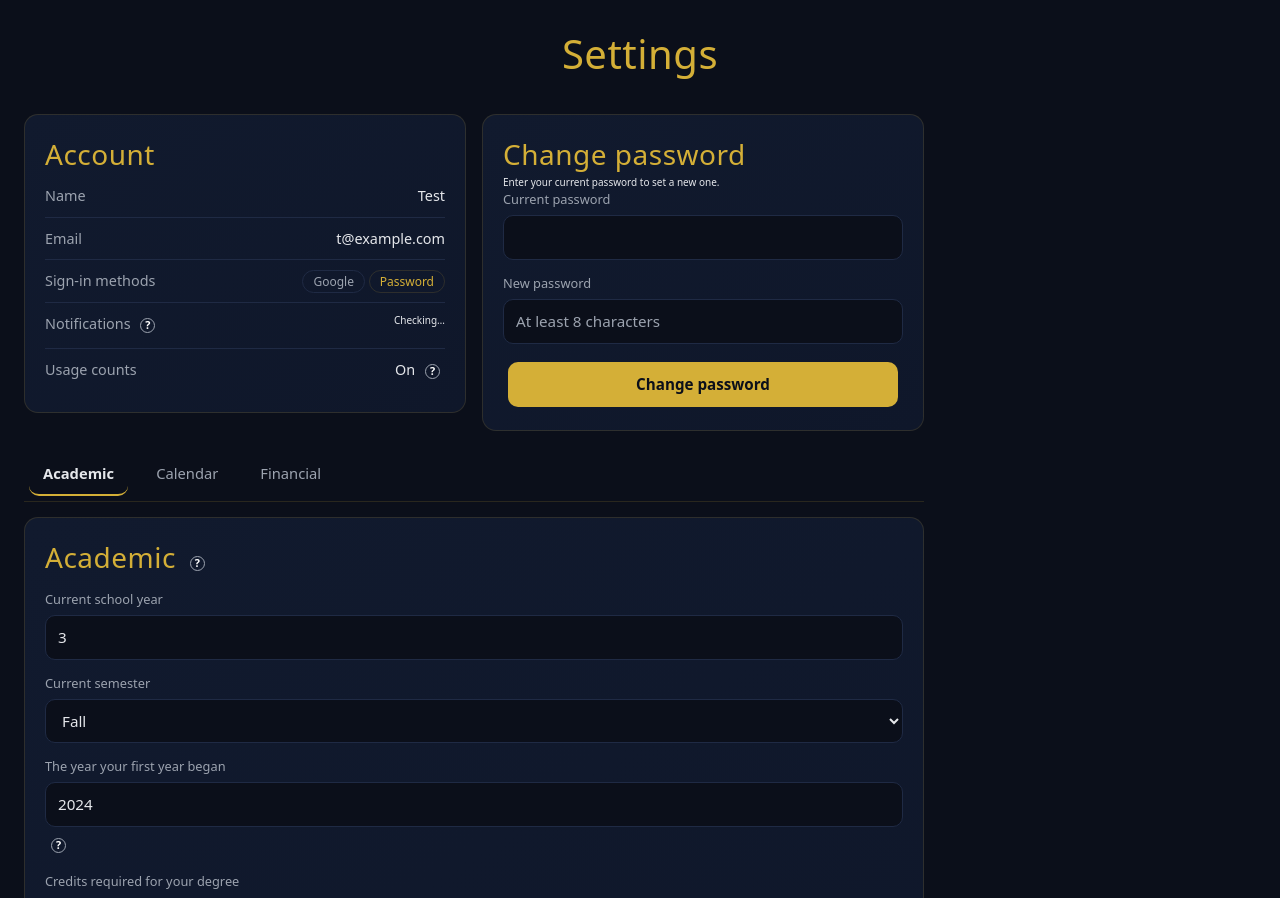
Test: where cash tips go › sends null for Not chosen
The image size is (1280, 898).
Step 1. Click the tab "Financial" → [291, 474], box [246, 452, 335, 496]
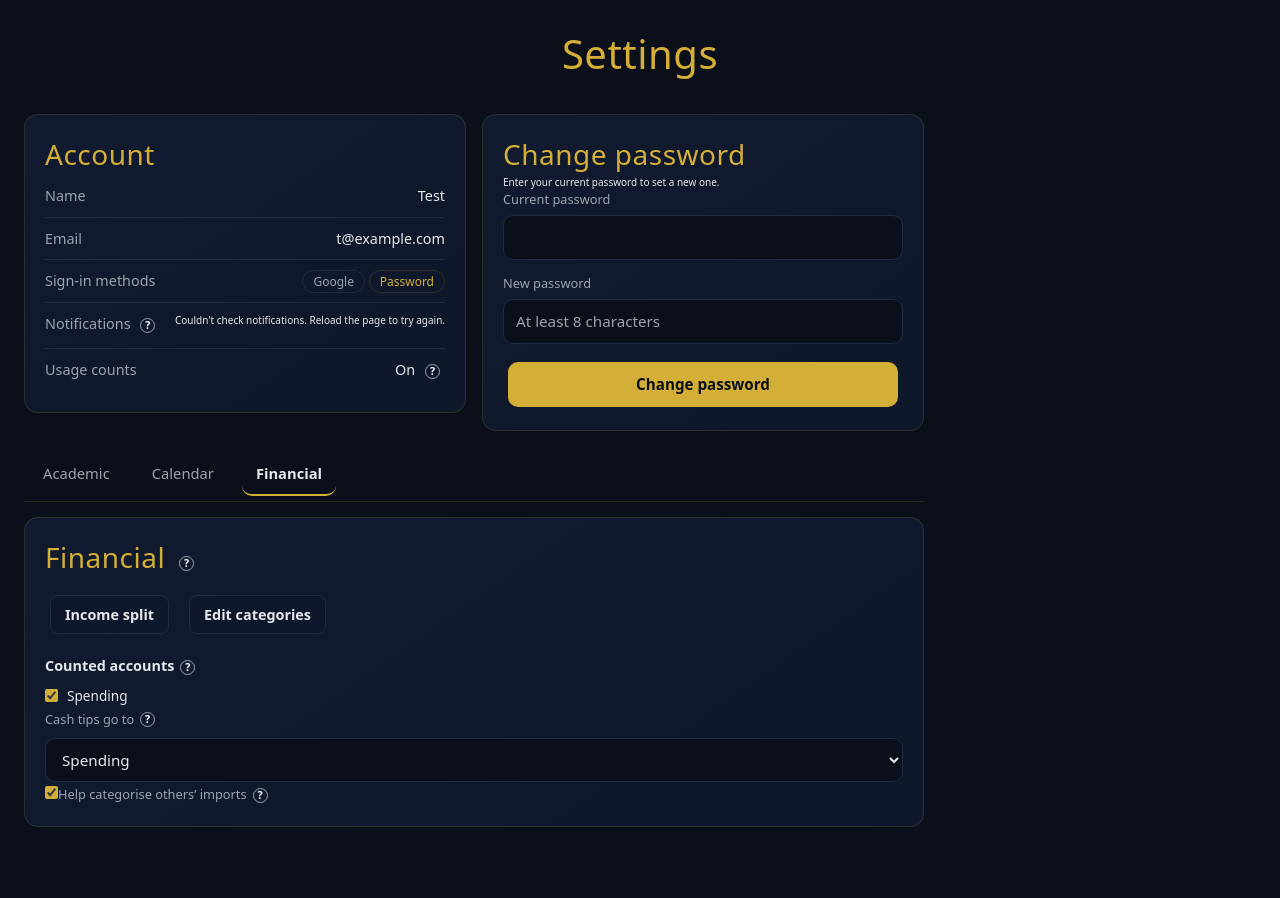
Step 2. Select "Not chosen" in the dropdown labelled "Cash tips go to" → [474, 760], box [45, 738, 903, 782]
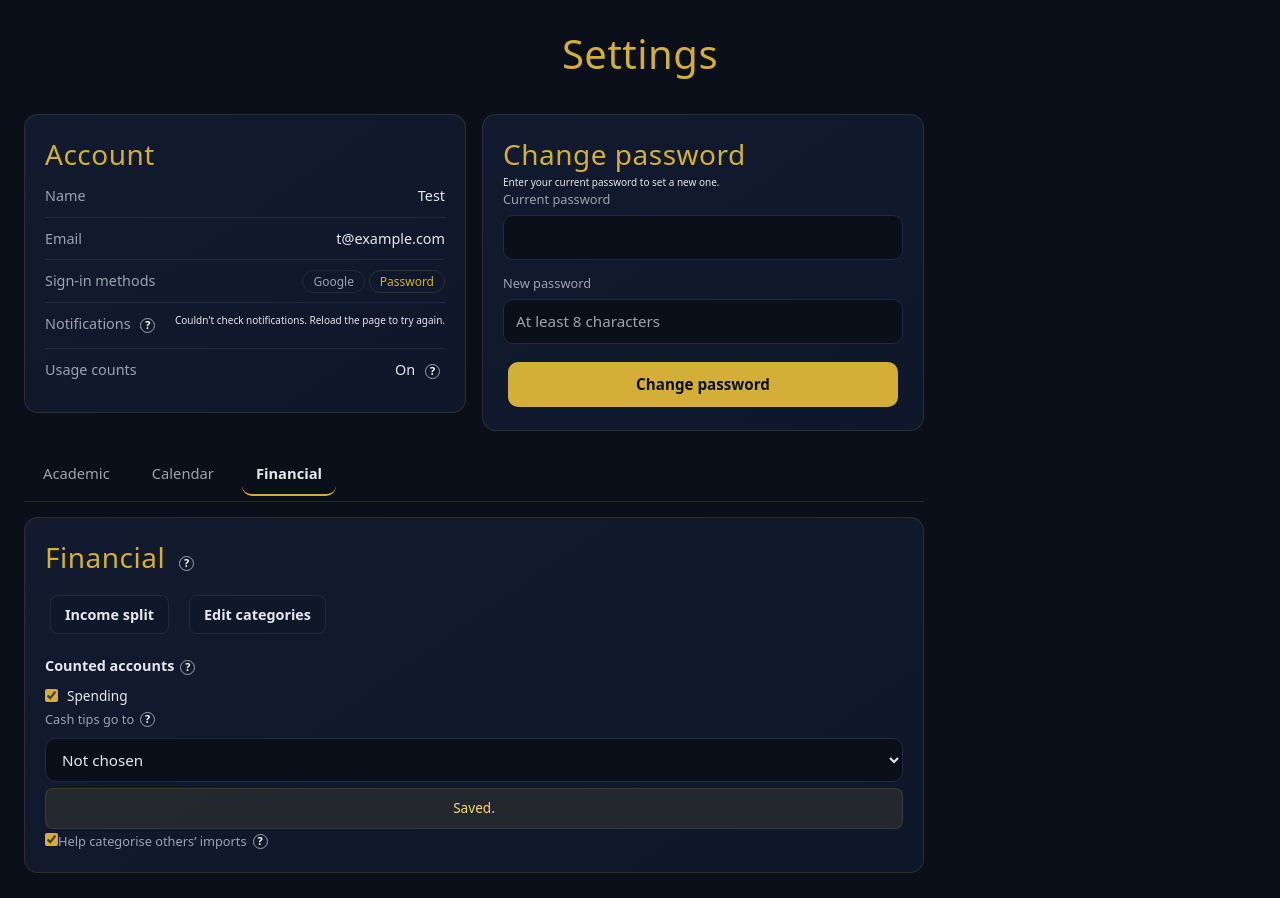
Result: the text "Saved." is shown at [45, 788, 903, 829]
